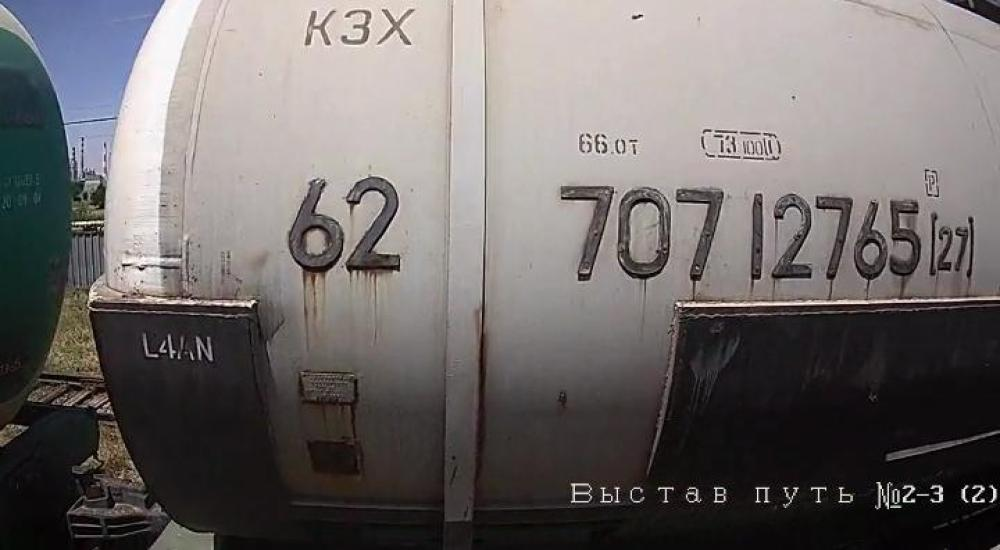Wagon-number: (552, 181, 924, 288)
